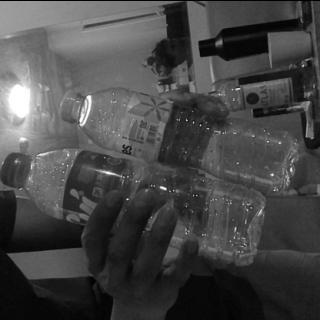plastic_bottles: (0, 148, 268, 266), (58, 85, 298, 197)
